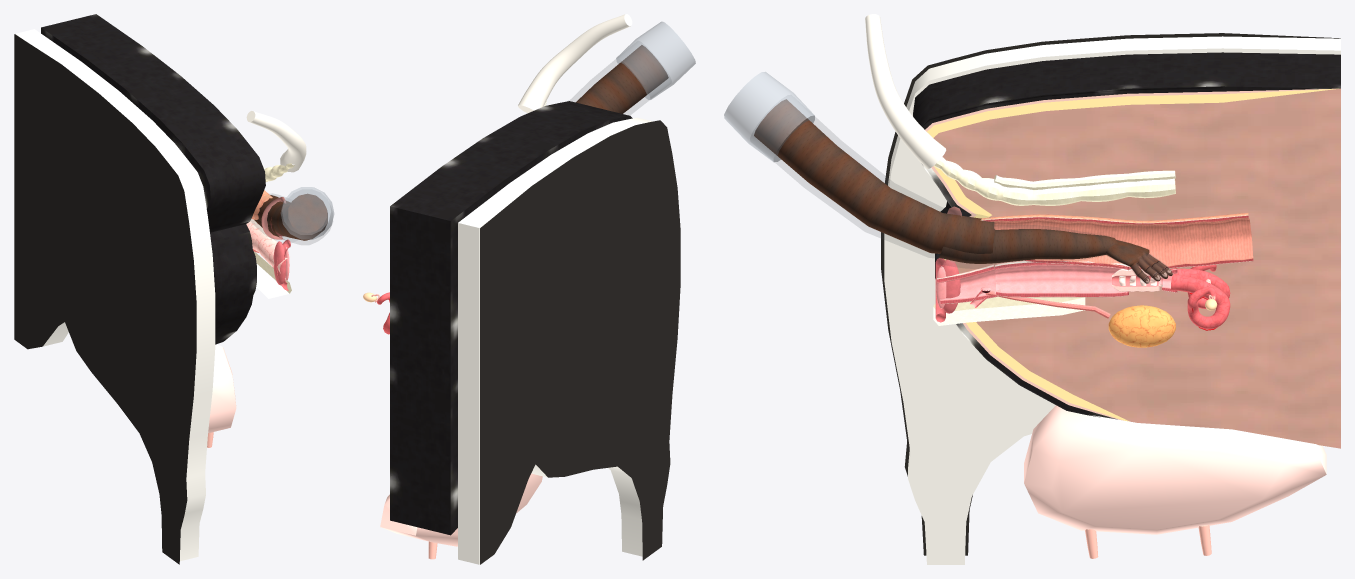
The model's file is tract-DrIzLafQ.glb.
3 views of the same model, side by side, from view 1: azimuth 30°, elevation 25°; view 2: azimuth 150°, elevation 25°; view 3: azimuth 270°, elevation 25° (orthographic). The views are drawn at different scales.
Visible parts, largest first — view 1: TR_body_far, TR_skin_section, HAND_sleeve, TR_udder, TR_tail_section, TR_pelvis, TR_vulva, TR_vestibule; view 2: TR_body_far, TR_skin_section, HAND_sleeve, TR_tail_section, TR_udder; view 3: TR_skin_section, TR_body_far, TR_udder, HAND_sleeve, TR_rectum, TR_sacrum, HAND_forearm, TR_vagina, TR_tail_section, TR_pelvis, TR_bladder, TR_horn_right (+5 smaller).
Boxes of the visible parts, bbox=[...] form: TR_body_far: bbox=[14, 29, 215, 564]; TR_skin_section: bbox=[41, 14, 265, 344]; HAND_sleeve: bbox=[257, 187, 334, 244]; TR_udder: bbox=[207, 344, 236, 447]; TR_tail_section: bbox=[246, 111, 306, 172]; TR_pelvis: bbox=[254, 251, 291, 298]; TR_vulva: bbox=[273, 241, 289, 285]; TR_vestibule: bbox=[254, 232, 289, 273]; TR_body_far: bbox=[458, 117, 680, 564]; TR_skin_section: bbox=[390, 101, 632, 535]; HAND_sleeve: bbox=[570, 21, 695, 114]; TR_tail_section: bbox=[518, 14, 632, 113]; TR_udder: bbox=[380, 473, 542, 559]; TR_skin_section: bbox=[913, 52, 1340, 448]; TR_body_far: bbox=[881, 33, 1340, 564]; TR_udder: bbox=[1024, 405, 1326, 558]; HAND_sleeve: bbox=[724, 72, 995, 257]; TR_rectum: bbox=[980, 212, 1253, 269]; TR_sacrum: bbox=[934, 157, 1175, 205]; HAND_forearm: bbox=[938, 225, 1117, 268]; TR_vagina: bbox=[995, 261, 1129, 297]; TR_tail_section: bbox=[865, 14, 946, 169]; TR_pelvis: bbox=[933, 296, 1085, 325]; TR_bladder: bbox=[1108, 305, 1175, 347]; TR_horn_right: bbox=[1171, 274, 1230, 329].
Size of the model in its own units: 0.4844 by 1.34 by 1.3.
44 materials, 25 textured.
